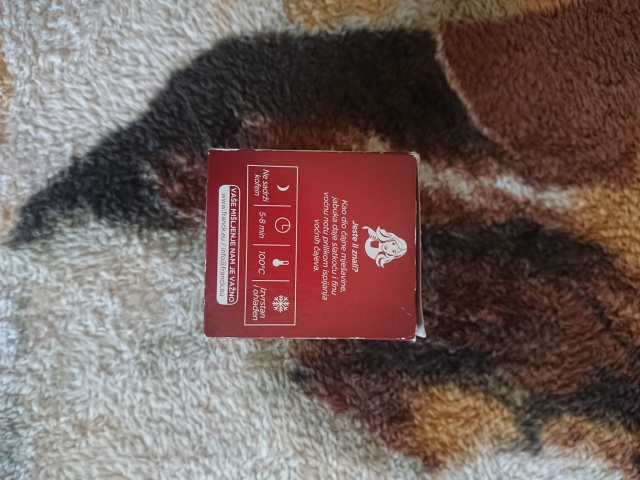Franck Apple Cinnamon Tea 60g: (200, 144, 430, 343)
